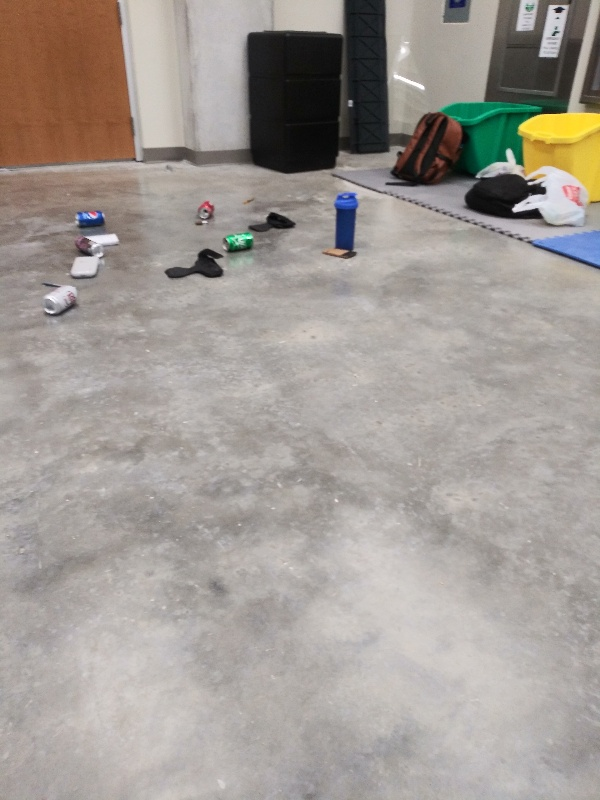can: (41, 284, 84, 316), (69, 235, 109, 260), (218, 232, 258, 253), (72, 208, 110, 228), (194, 199, 217, 220)
